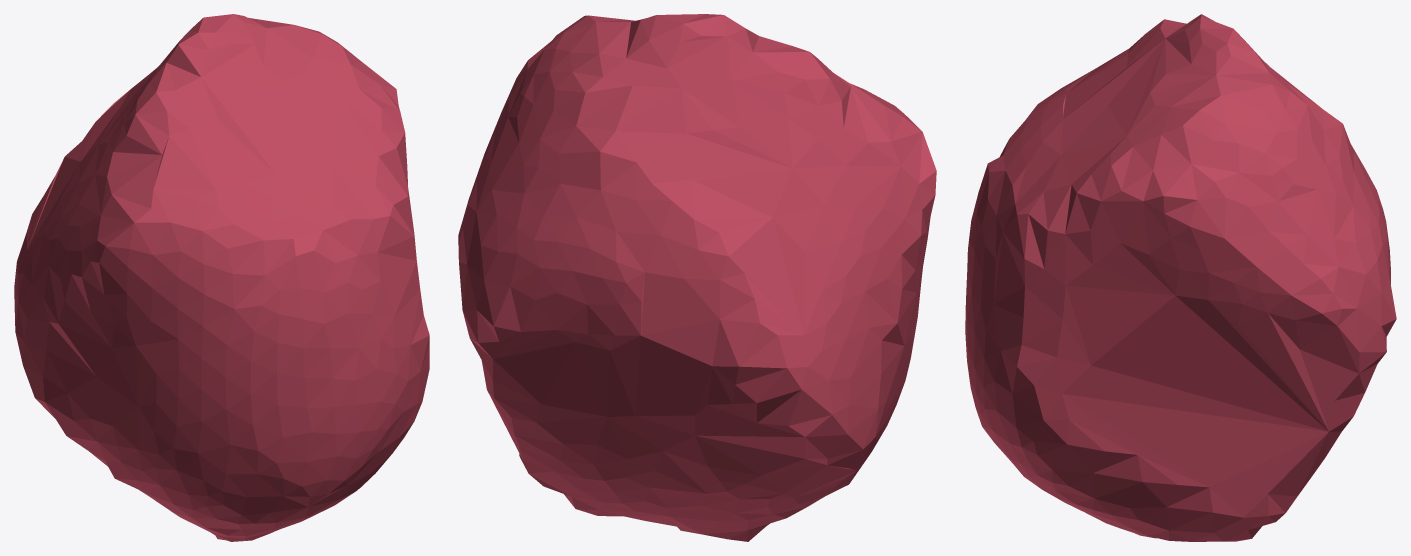
File: Model_625_RH__Lateral_vestibular_nucleus_(LVe).obj
3 views of the same model, side by side, from view 1: azimuth 30°, elevation 25°; view 2: azimuth 150°, elevation 25°; view 3: azimuth 270°, elevation 25° (orthographic). The views are drawn at different scales.
Bounding box in the file's own units: 1.11 × 1.55 × 1.2.
